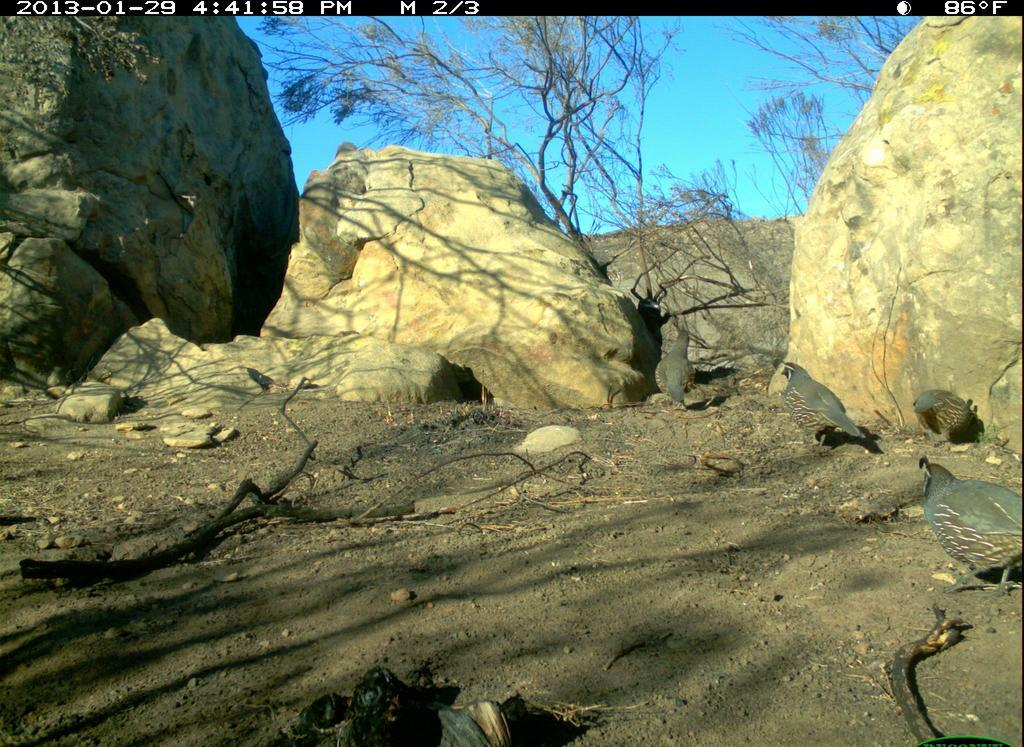bird: (918, 459, 1022, 600), (776, 349, 871, 454), (648, 319, 703, 422), (908, 387, 994, 450)
